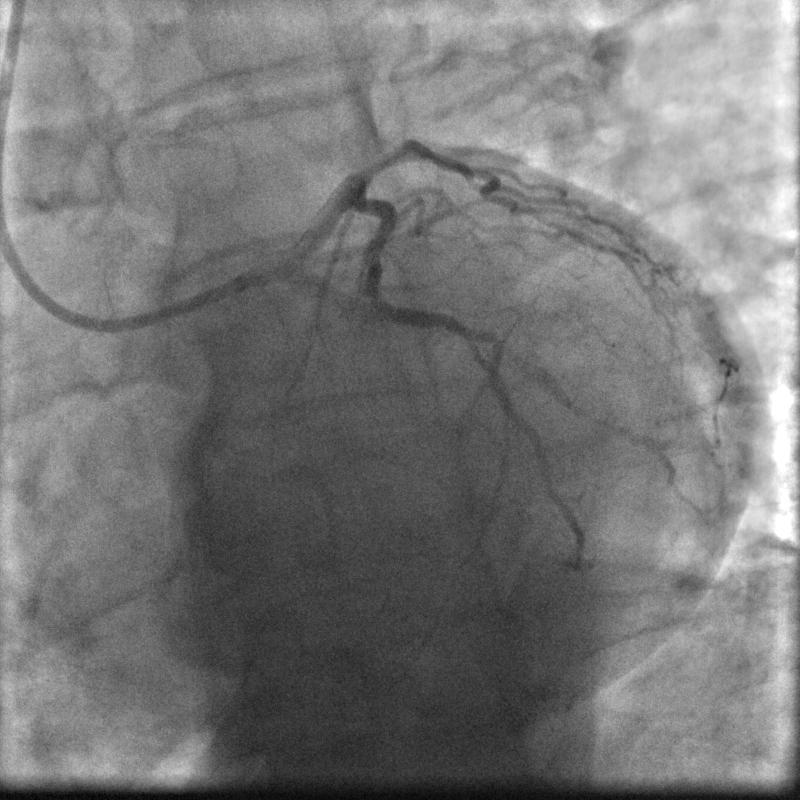Stenosis: (353, 138, 416, 171)
